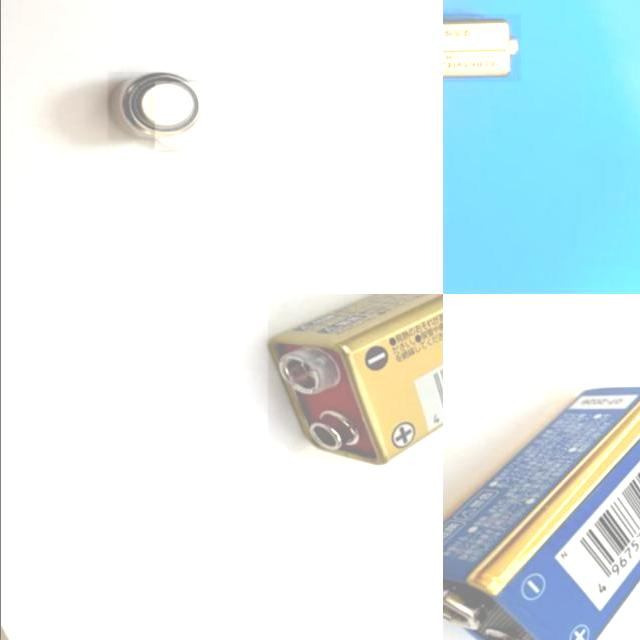9V: (442, 386, 640, 640), (267, 294, 442, 468), (442, 14, 520, 82)
